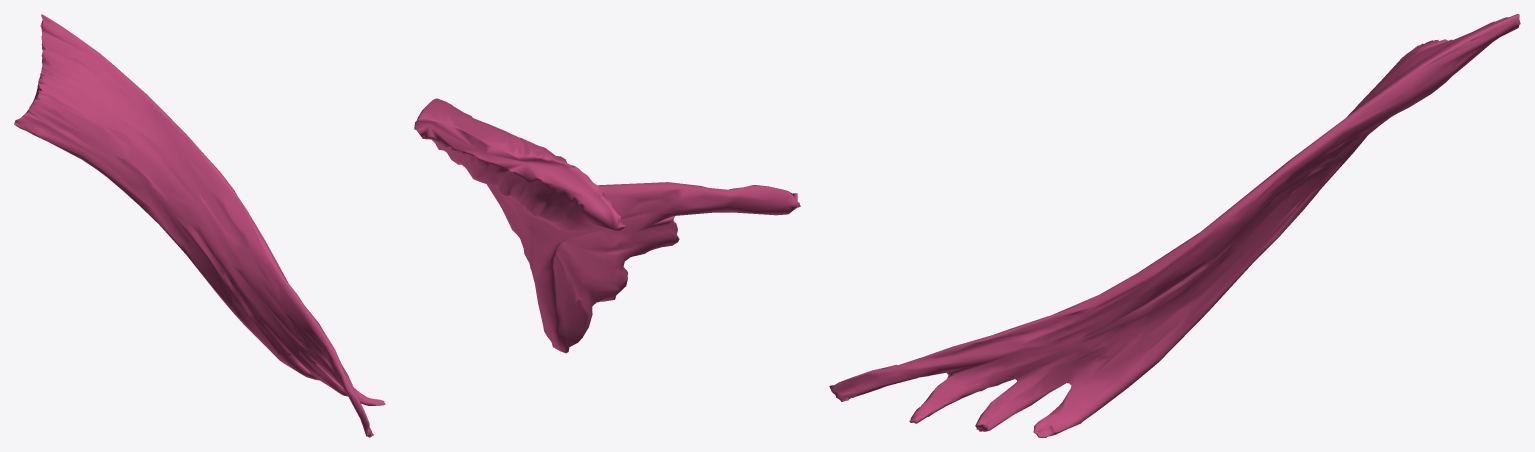
3 renders of one model, left to right at view 1: azimuth 30°, elevation 25°; view 2: azimuth 150°, elevation 25°; view 3: azimuth 270°, elevation 25°, orthographic. The views are drawn at different scales.
Visible parts, largest first — view 1: 右侧肩胛提肌; view 2: 右侧肩胛提肌; view 3: 右侧肩胛提肌.
Boxes of the visible parts, box(x1,y1,x2,y2) form: 右侧肩胛提肌: box(14, 14, 385, 437); 右侧肩胛提肌: box(414, 98, 800, 353); 右侧肩胛提肌: box(829, 14, 1520, 437).
Size of the model in its own units: 0.0905 by 0.1265 by 0.2252.
